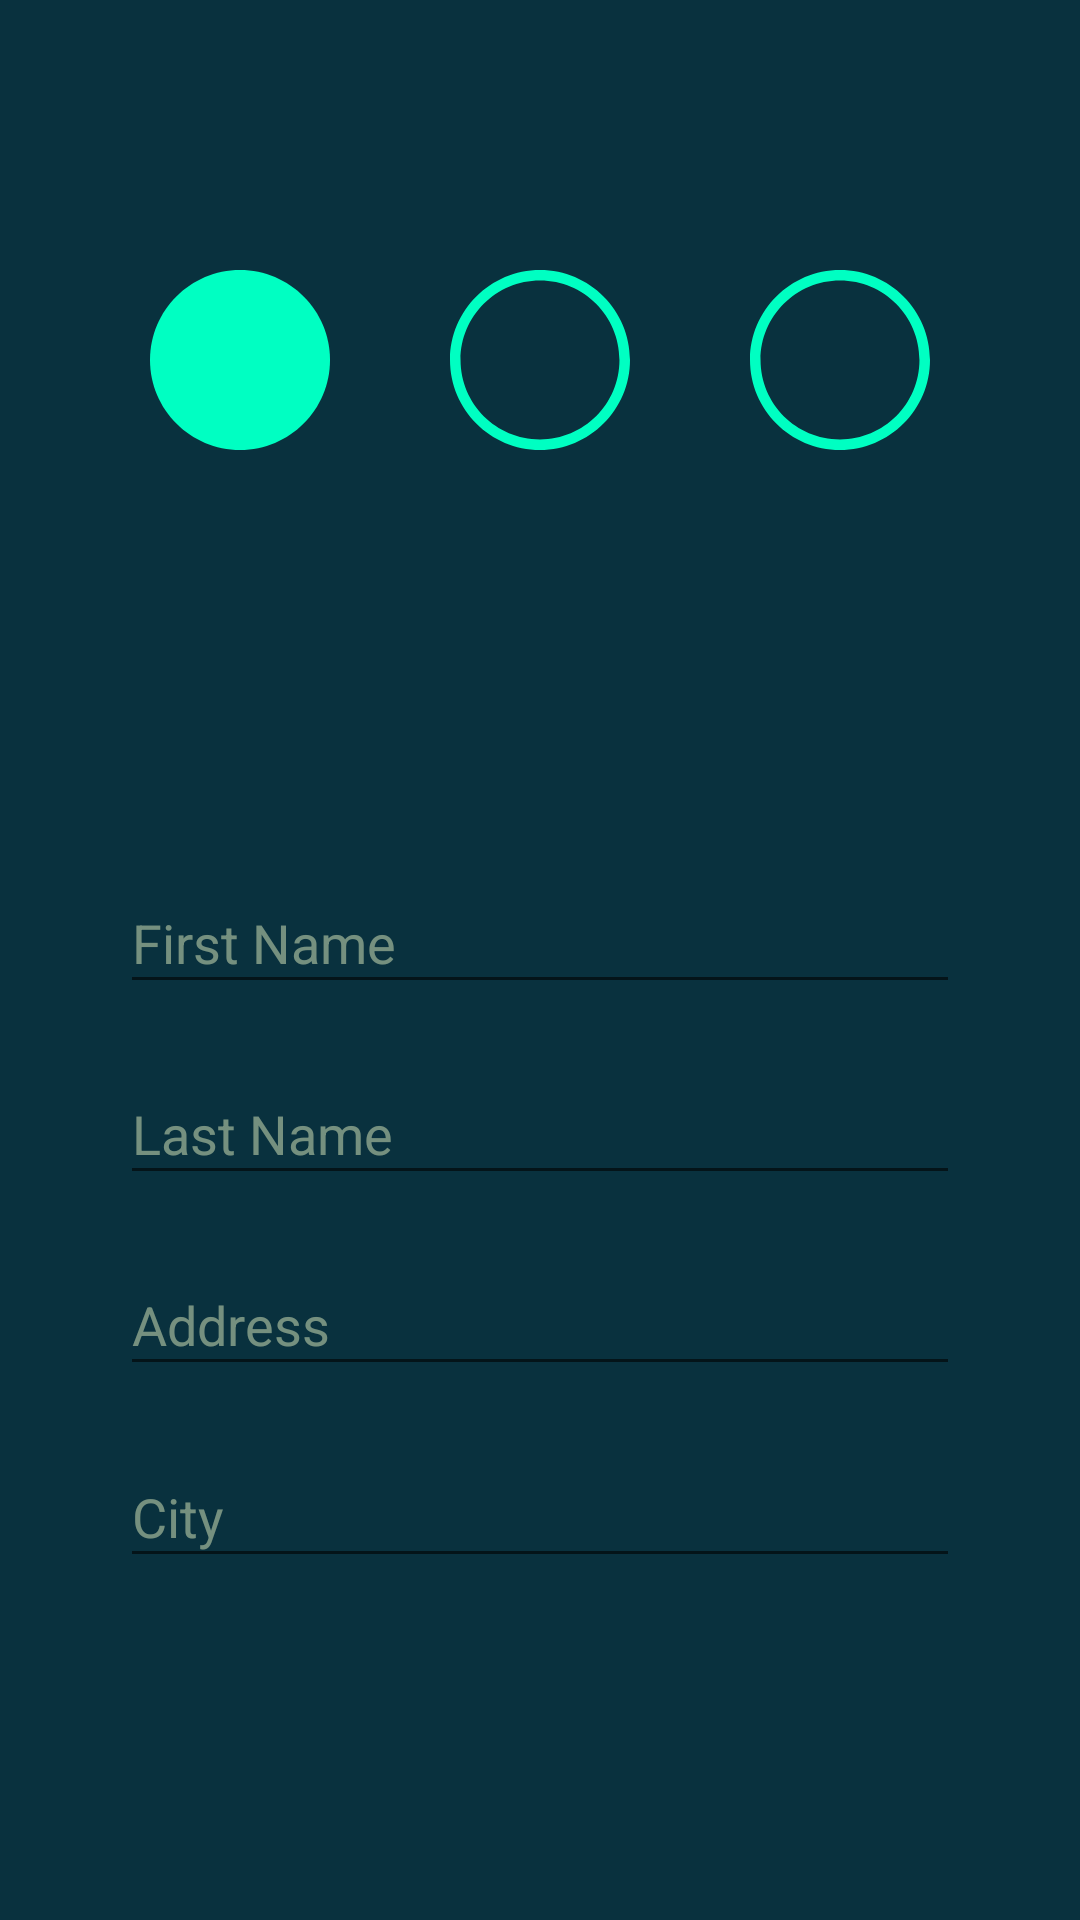

Icon bounding boxes for this 1080px×1920px phone screenshot, format (x1, y1, x2, y2):
step done: (150, 270, 330, 450)
step undone: (450, 270, 630, 450), (750, 270, 930, 450)
